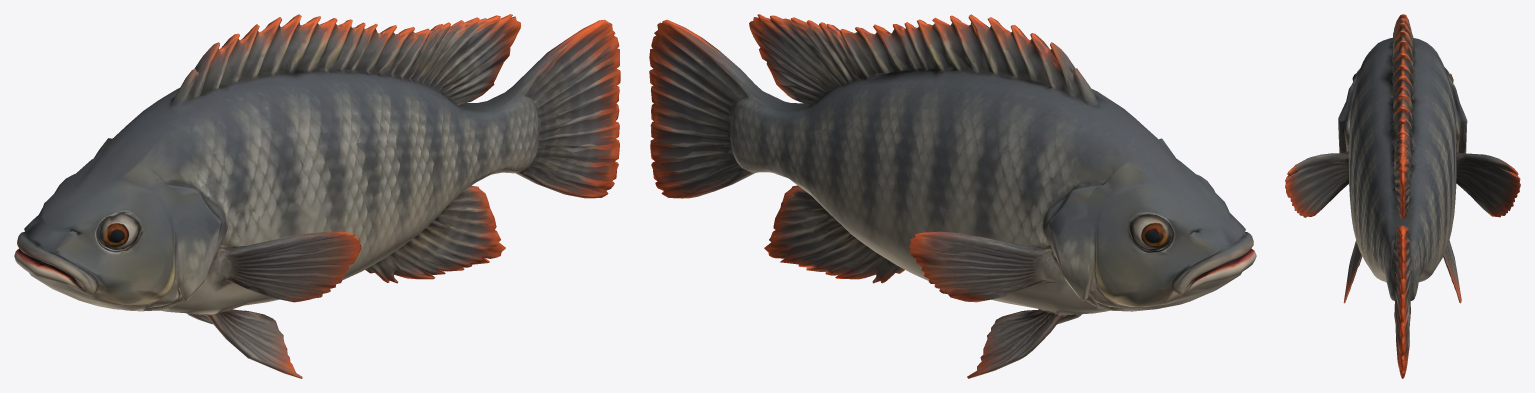
Rendered from fish-tilapiya.glb.
3 renders of one model, left to right at view 1: azimuth 30°, elevation 25°; view 2: azimuth 150°, elevation 25°; view 3: azimuth 270°, elevation 25°, orthographic. The views are drawn at different scales.
Visible parts, largest first — view 1: tripo_node_d10b341f-5795-4df8-aac3-eb3385e5cdbf; view 2: tripo_node_d10b341f-5795-4df8-aac3-eb3385e5cdbf; view 3: tripo_node_d10b341f-5795-4df8-aac3-eb3385e5cdbf.
Boxes of the visible parts, left/top/right/bottom form: tripo_node_d10b341f-5795-4df8-aac3-eb3385e5cdbf: left=14, top=14, right=620, bottom=378; tripo_node_d10b341f-5795-4df8-aac3-eb3385e5cdbf: left=649, top=14, right=1256, bottom=378; tripo_node_d10b341f-5795-4df8-aac3-eb3385e5cdbf: left=1285, top=14, right=1520, bottom=378.
Bounding box in the file's own units: 0.9994 × 0.5309 × 0.4079.
1 material, 1 textured.
